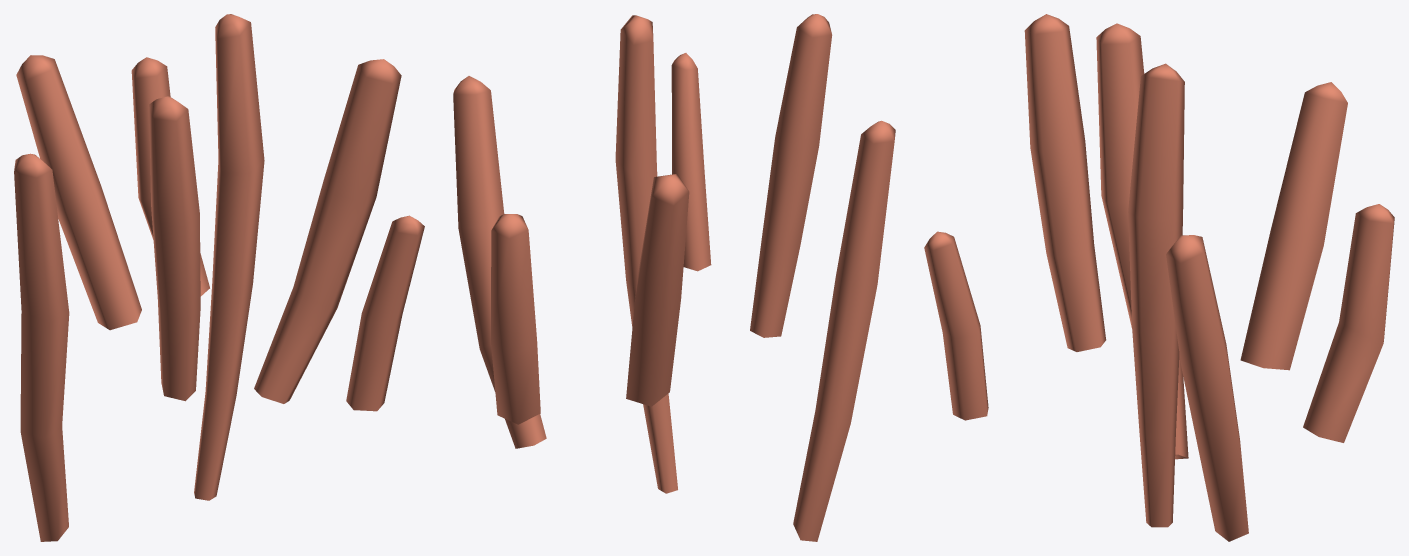
File: coral_anemone_A_ultralight.fbx
3 views of the same model, side by side, from view 1: azimuth 30°, elevation 25°; view 2: azimuth 150°, elevation 25°; view 3: azimuth 270°, elevation 25° (orthographic).
Parts seen in each view (by area): view 1: coral_anemone_A_A, coral_anemone_A_E, coral_anemone_A_B, coral_anemone_A_D, coral_anemone_A_C, coral_anemone_A_G, coral_anemone_A_F; view 2: coral_anemone_A_B, coral_anemone_A_C, coral_anemone_A_A, coral_anemone_A_E, coral_anemone_A_D, coral_anemone_A_F, coral_anemone_A_G; view 3: coral_anemone_A_A, coral_anemone_A_C, coral_anemone_A_D, coral_anemone_A_E, coral_anemone_A_F, coral_anemone_A_B, coral_anemone_A_G.
Boxes of the visible parts, bbox=[...] form: coral_anemone_A_A: bbox=[194, 14, 264, 500]; coral_anemone_A_E: bbox=[254, 59, 401, 403]; coral_anemone_A_B: bbox=[14, 153, 69, 541]; coral_anemone_A_D: bbox=[16, 55, 141, 330]; coral_anemone_A_C: bbox=[149, 96, 200, 401]; coral_anemone_A_G: bbox=[346, 215, 424, 411]; coral_anemone_A_F: bbox=[131, 57, 209, 296]; coral_anemone_A_B: bbox=[793, 120, 895, 541]; coral_anemone_A_C: bbox=[750, 14, 832, 337]; coral_anemone_A_A: bbox=[615, 15, 677, 493]; coral_anemone_A_E: bbox=[453, 76, 546, 448]; coral_anemone_A_D: bbox=[626, 174, 689, 406]; coral_anemone_A_F: bbox=[491, 214, 540, 424]; coral_anemone_A_G: bbox=[671, 53, 711, 271]; coral_anemone_A_A: bbox=[1128, 63, 1184, 527]; coral_anemone_A_C: bbox=[1024, 14, 1106, 351]; coral_anemone_A_D: bbox=[1240, 82, 1347, 370]; coral_anemone_A_E: bbox=[1166, 235, 1248, 541]; coral_anemone_A_F: bbox=[1303, 204, 1394, 442]; coral_anemone_A_B: bbox=[1096, 23, 1188, 459]; coral_anemone_A_G: bbox=[924, 231, 988, 420].
Size of the model in its own units: 44.39 by 49.27 by 43.31.
